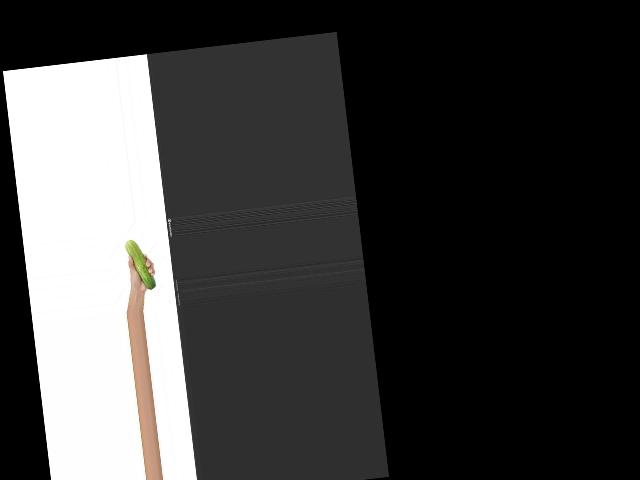cucumber: (124, 238, 156, 292)
